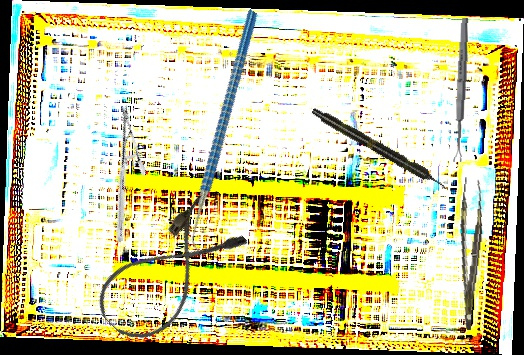Cannula: (86, 190, 252, 355)
Chopper: (119, 9, 333, 259)
Handpiece: (309, 104, 450, 194)
Needle Holder: (64, 105, 181, 243)
Surgical Spoon: (452, 17, 470, 163)
Tissue Forceps: (446, 177, 490, 330)
